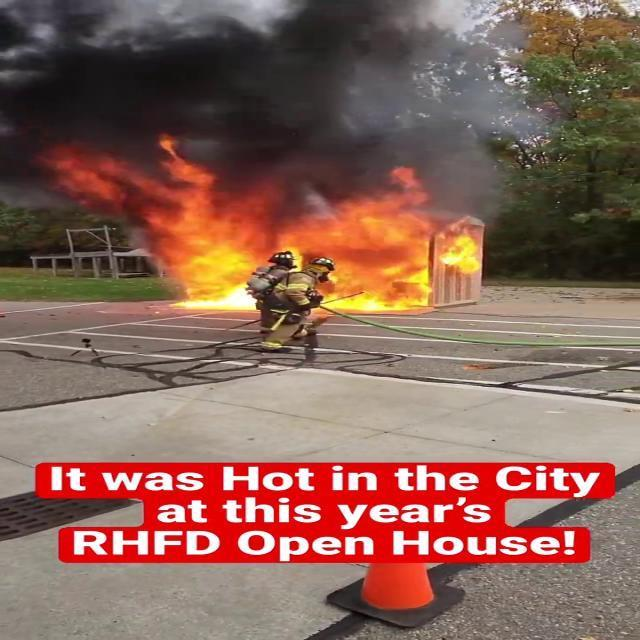Fire: (108, 172, 489, 303)
Smoke: (0, 0, 551, 225)
